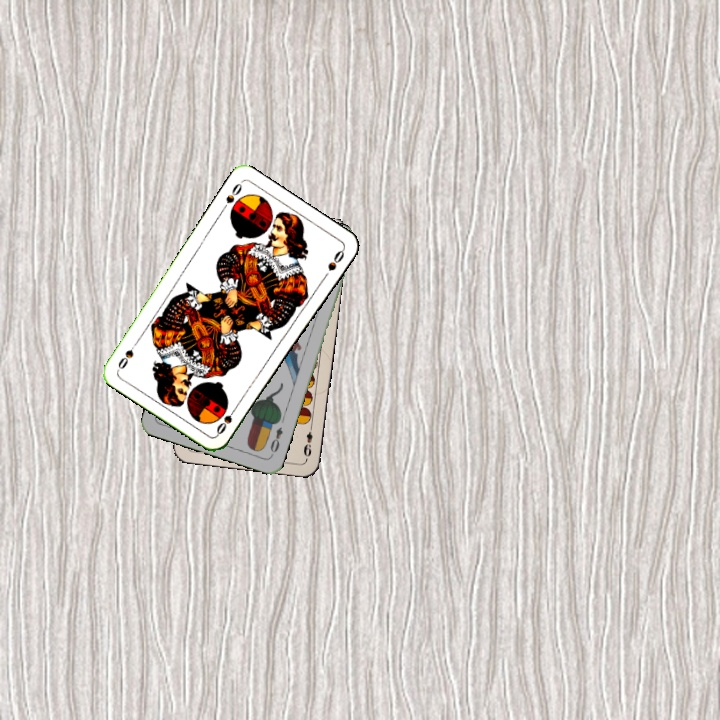E9: (299, 421, 315, 459)
EO: (266, 423, 285, 458)
SO: (212, 401, 240, 437), (217, 178, 245, 214)
